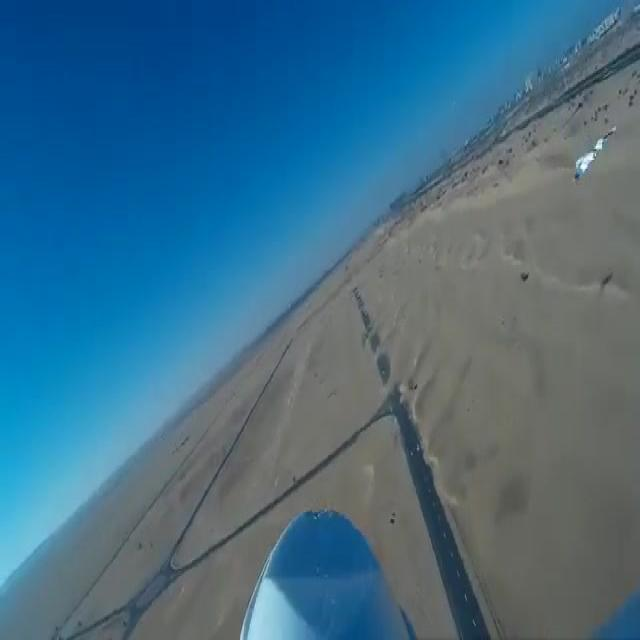iha: (572, 125, 617, 185)
